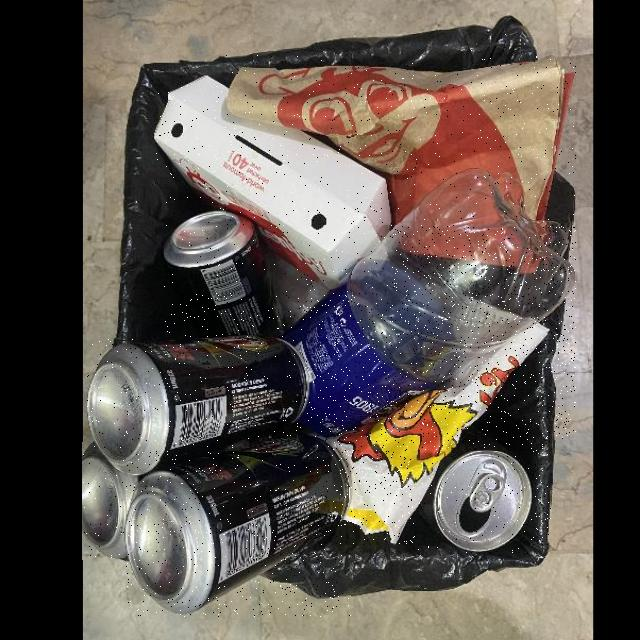metal: (127, 423, 351, 617), (87, 338, 311, 478), (165, 211, 289, 343), (415, 452, 533, 553), (83, 442, 137, 560)
paper: (226, 55, 576, 225), (154, 76, 390, 293), (333, 323, 551, 545)
plastic: (285, 168, 576, 440)
